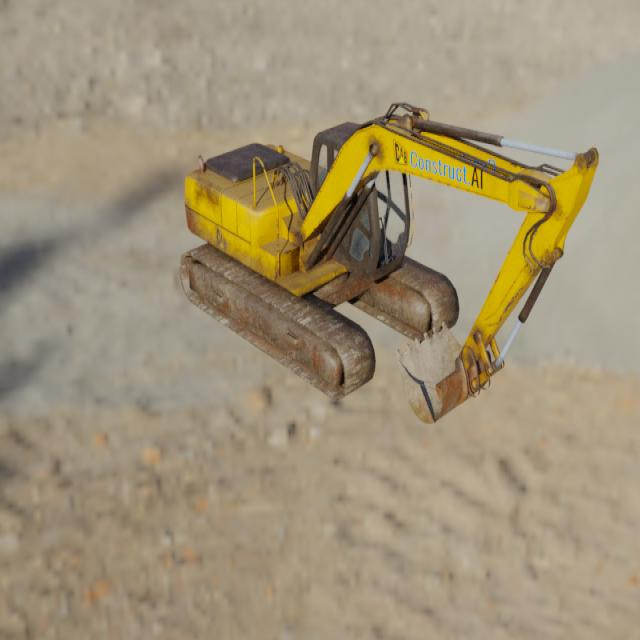excavator: (178, 101, 599, 424)
